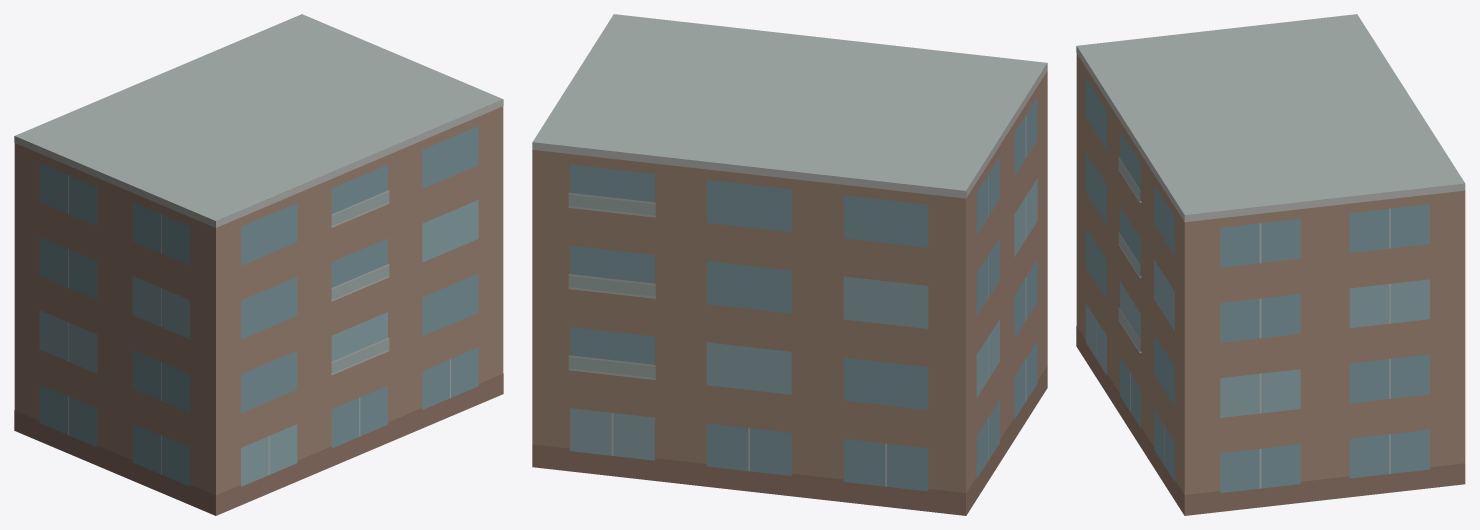
The model's file is survey-upis-32716187.glb.
3 renders of one model, left to right at view 1: azimuth 30°, elevation 25°; view 2: azimuth 150°, elevation 25°; view 3: azimuth 270°, elevation 25°, orthographic. The views are drawn at different scales.
Visible parts, largest first — view 1: survey-upis-32716187.tmp; view 2: survey-upis-32716187.tmp; view 3: survey-upis-32716187.tmp.
Boxes of the visible parts, x1,y1,x2,y2 form: survey-upis-32716187.tmp: (14, 14, 503, 515); survey-upis-32716187.tmp: (532, 14, 1047, 515); survey-upis-32716187.tmp: (1076, 14, 1465, 515).
Size of the model in its own units: 14.93 by 10.4 by 12.2.
